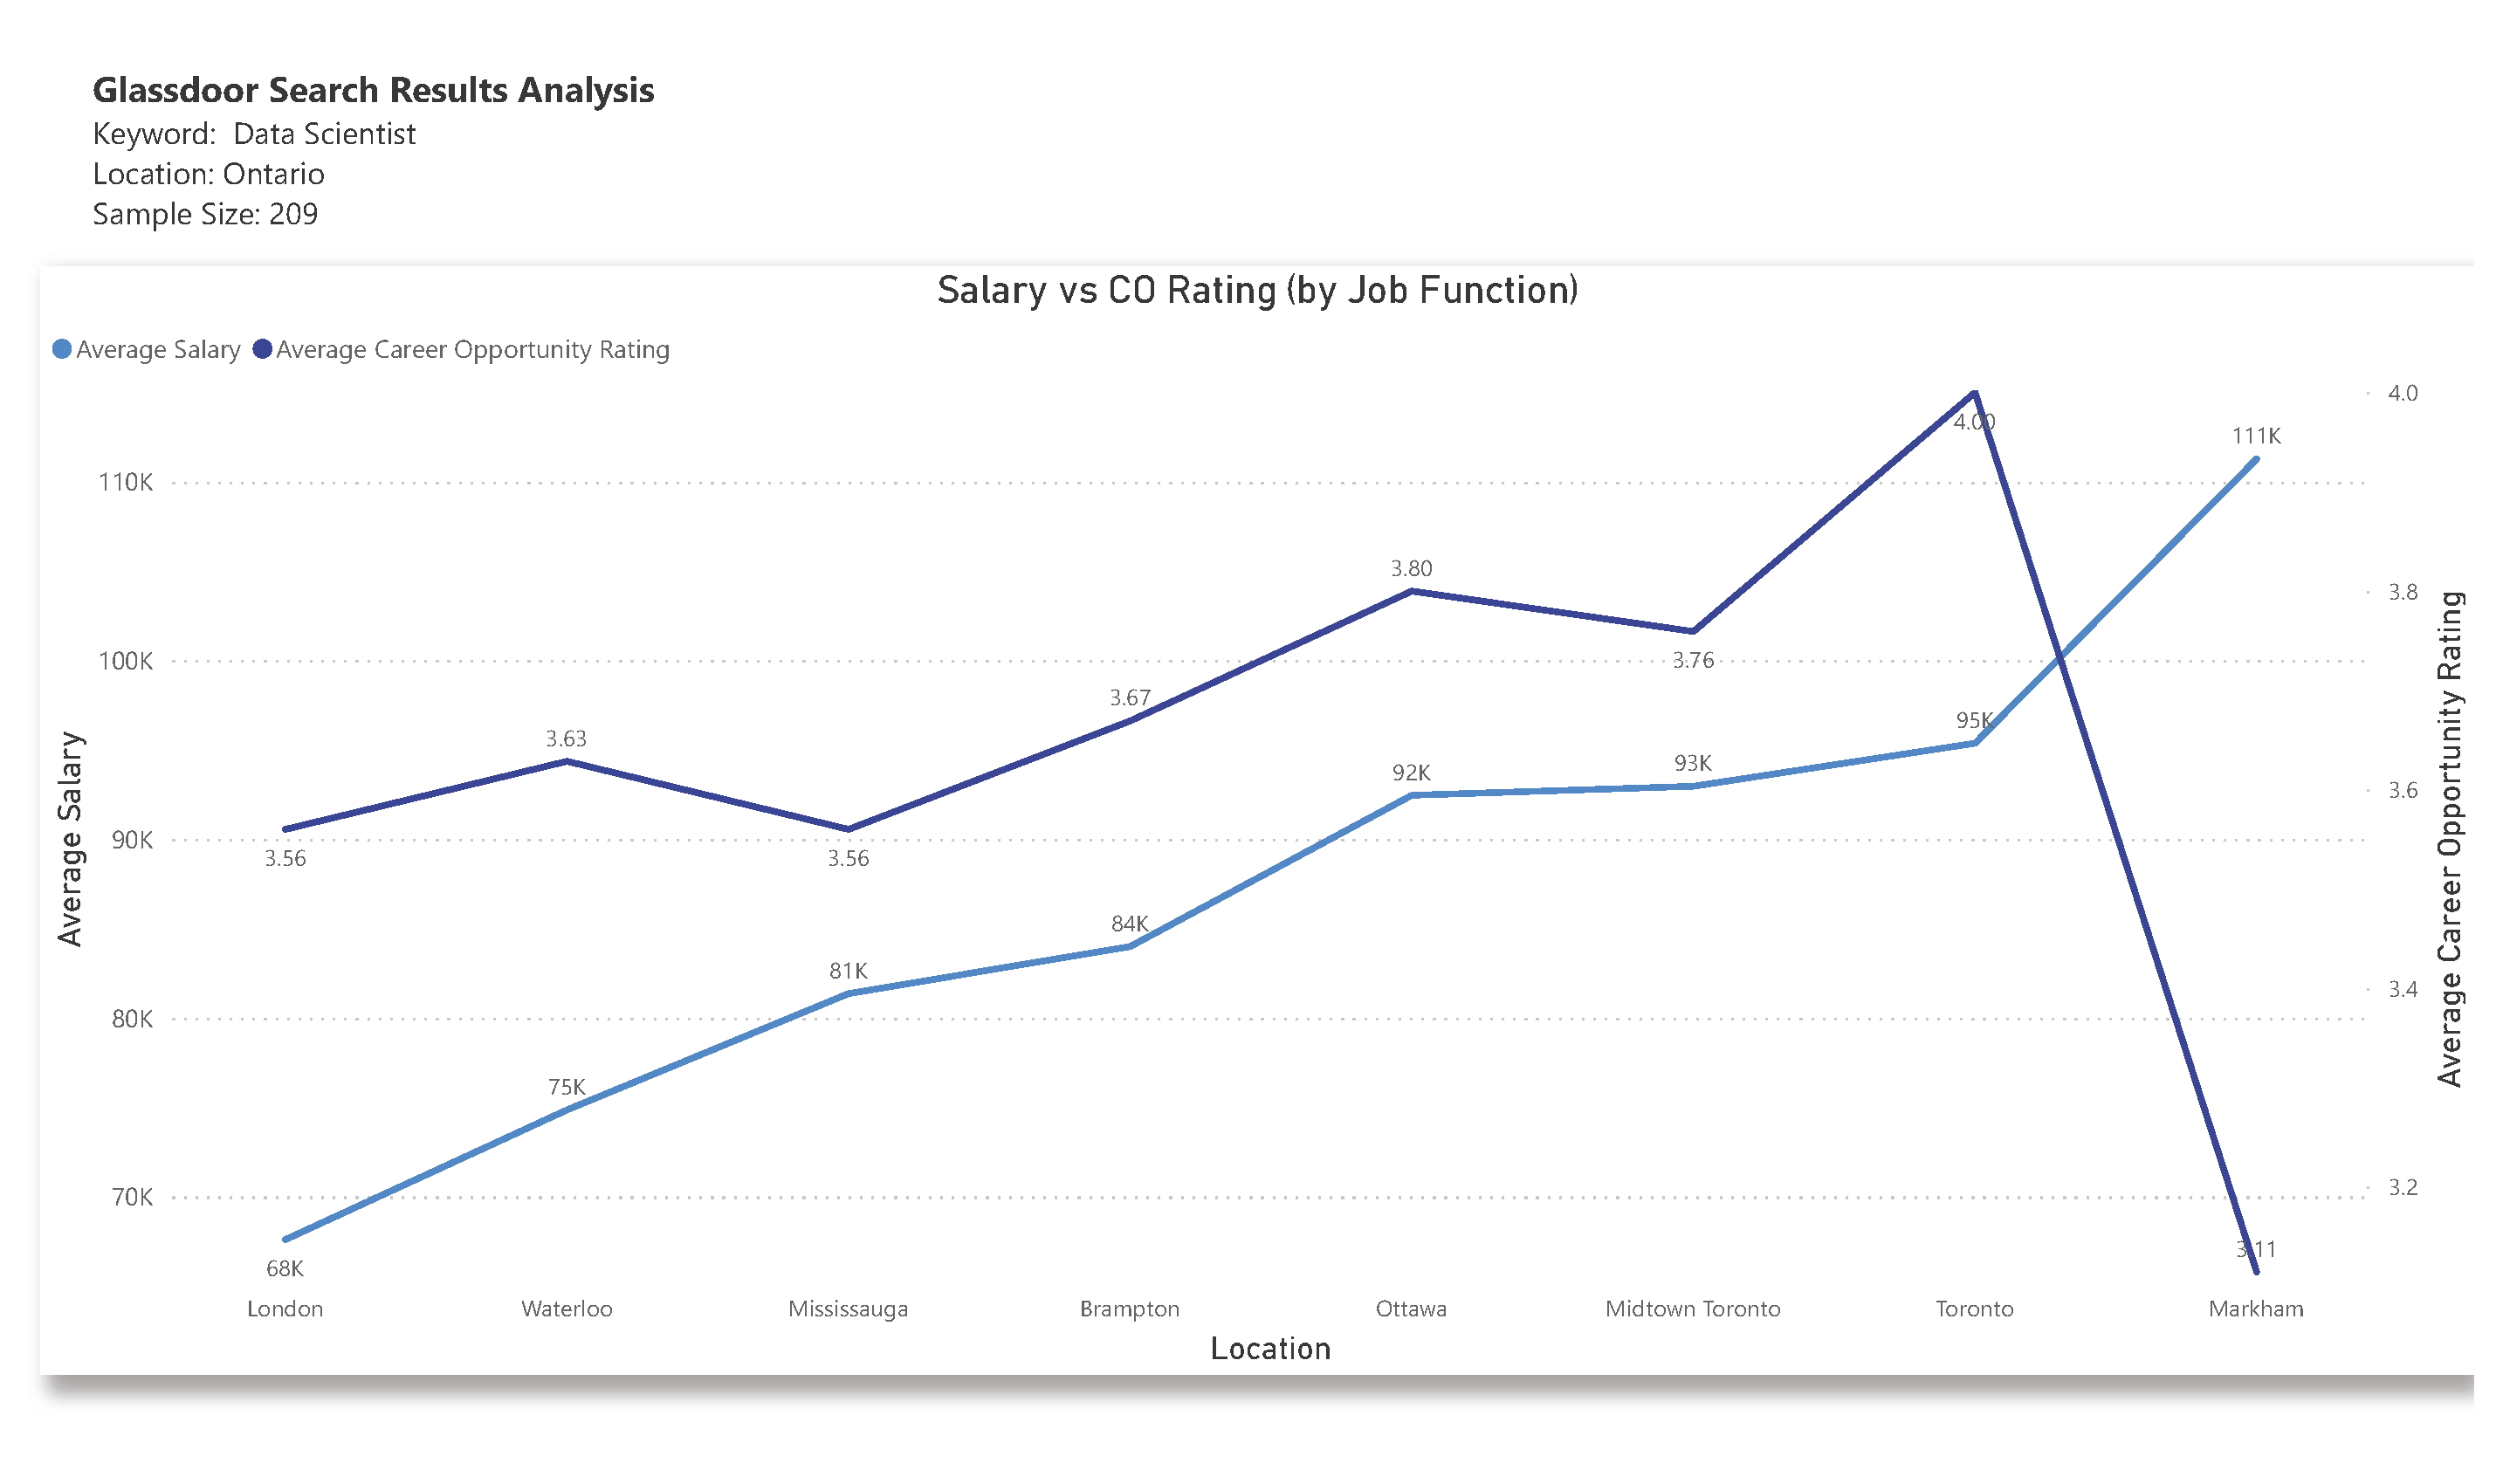

The page's visual inventory and layout, read from the dashboard file:
{"tool":"powerbi","page":{"name":"Job Function","canvas":[1280,720],"ordinal":1},"visuals":[{"type":"lineChart","title":"Salary vs CO Rating (by Job Function)","fields":{"Category":["job func average.Job Function"],"Y":["Sum(job func average.Estimated Salary)"],"Y2":["Sum(job func average.Career Opportunitie)"]},"box":[6.2,111,1274,579.7],"z":0},{"type":"textbox","box":[28.4,0,353.3,98.5],"z":1000}]}

Visuals, with their boxes on the page's 1280x720 design canvas (x1, y1, x2, y2). These are canvas units, not pixel positions in the 2503x1484 screenshot, which may show the page scaled, cropped or inside an application window:
"Salary vs CO Rating (by Job Function)" lineChart: select_region(6, 111, 1280, 691)
textbox: select_region(28, 0, 382, 98)
